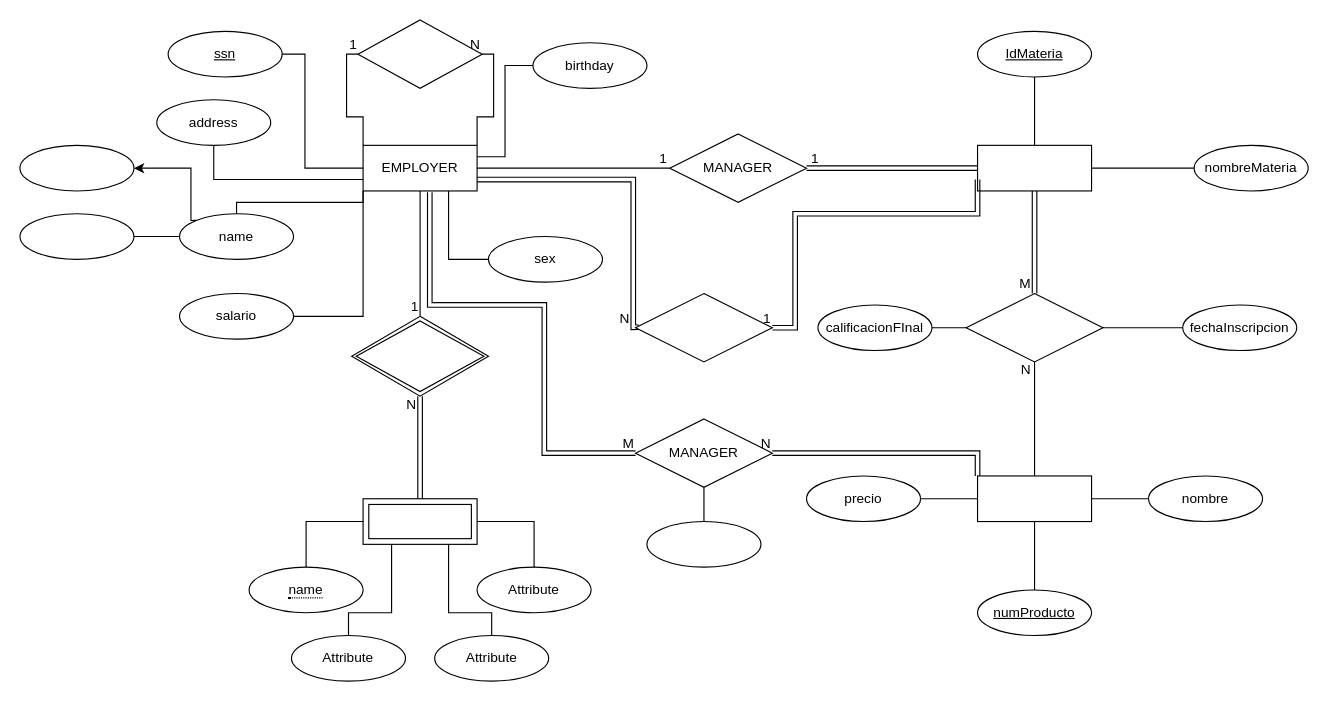
This 1328x701 diagram has some shape labels left out. The shapes that lost their labels are listed below. From the top down, each one's centre as x and y in pixels, then its label:
the point at 419,53: SUPERVISION
the point at 76,167: firsName
the point at 1034,167: DEPARTAMENT
the point at 76,236: lastName
the point at 703,327: WORKS_FOR
the point at 1034,327: CONTROLS
the point at 419,355: DEPENDENTS OF
the point at 1034,498: PROJECT
the point at 419,521: DEPENDENT
the point at 703,543: hours
